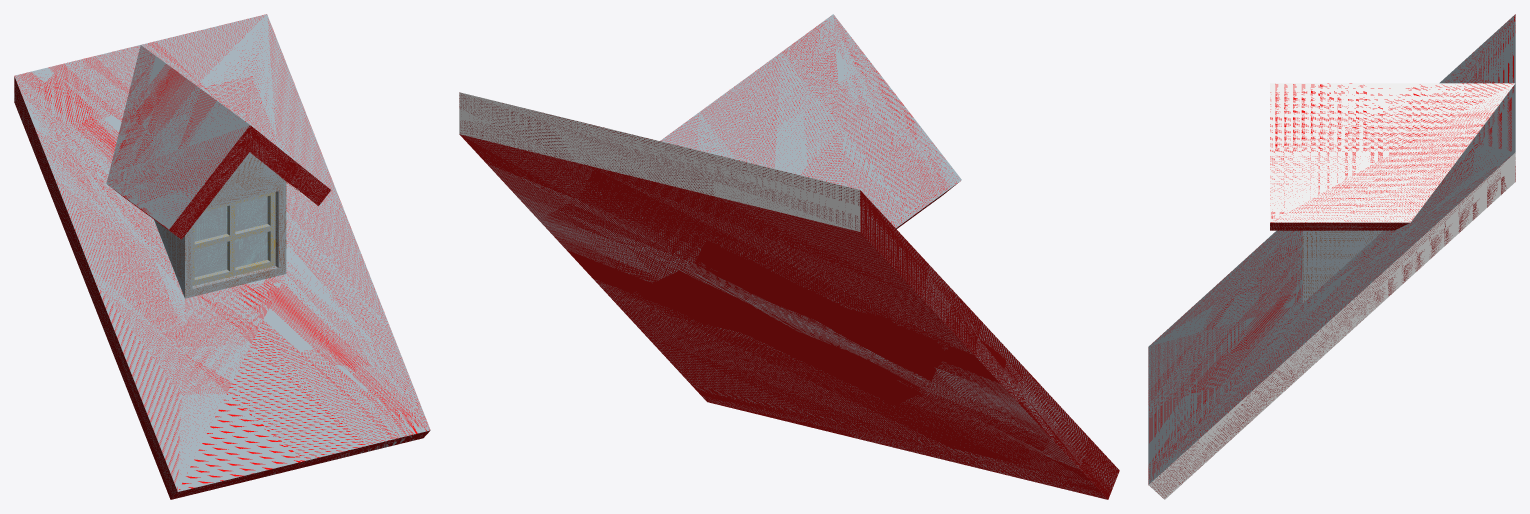
File: roof_dormer1.fbx
3 views of the same model, side by side, from view 1: azimuth 30°, elevation 25°; view 2: azimuth 150°, elevation 25°; view 3: azimuth 270°, elevation 25° (orthographic). The views are drawn at different scales.
Parts seen in each view (by area): view 1: Mesh1_sloped_roof_4_1 Model; view 2: Mesh1_sloped_roof_4_1 Model; view 3: Mesh1_sloped_roof_4_1 Model.
Boxes of the visible parts, box(x1,y1,x2,y2) form: Mesh1_sloped_roof_4_1 Model: box(14, 14, 430, 499); Mesh1_sloped_roof_4_1 Model: box(459, 14, 1119, 499); Mesh1_sloped_roof_4_1 Model: box(1148, 14, 1515, 499).
Size of the model in its own units: 1 by 1.17 by 1.12.
